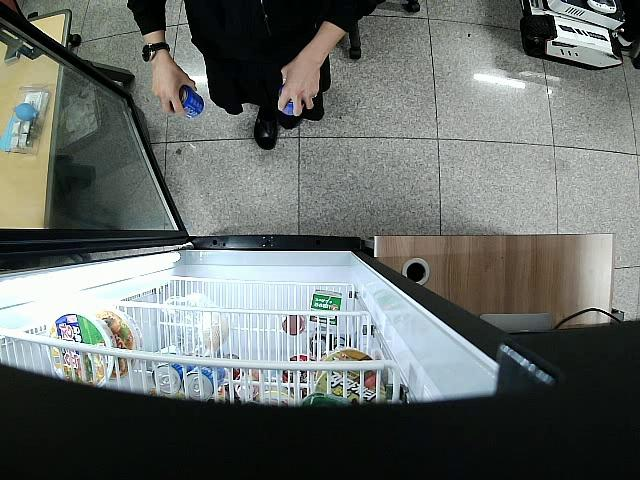00_hand: (151, 65, 198, 121), (277, 62, 320, 116)
13_pocariSweat: (171, 87, 205, 123), (280, 96, 299, 117)
